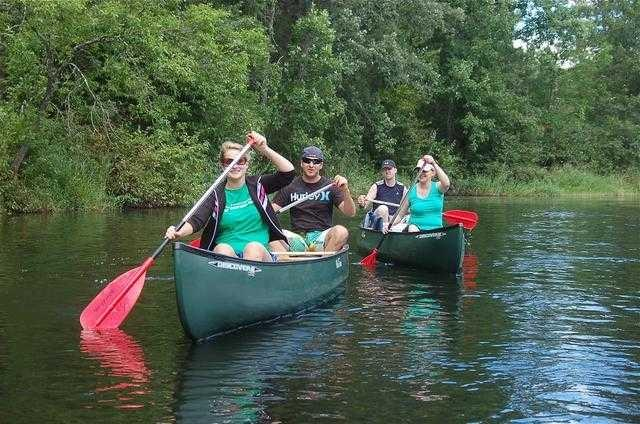kayak: (173, 242, 351, 344), (353, 223, 472, 274)
